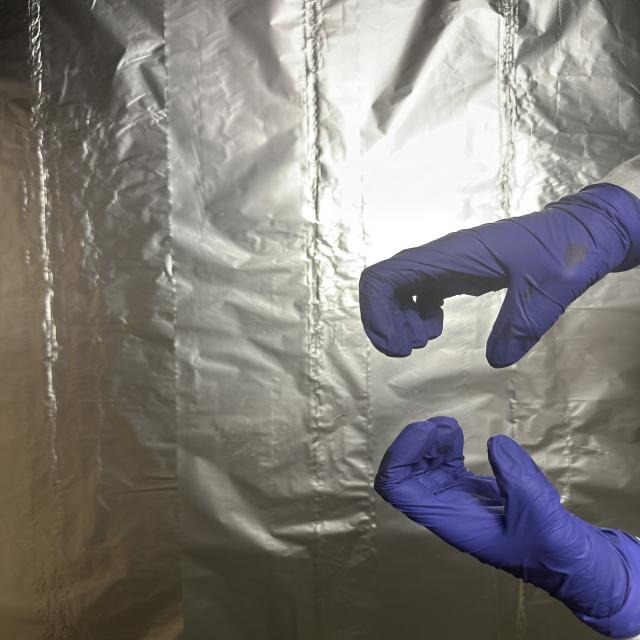gloves_contaminated: (374, 418, 640, 638), (359, 183, 640, 368)
